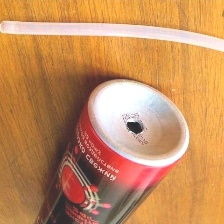aerosol_cans: (23, 73, 195, 223)
